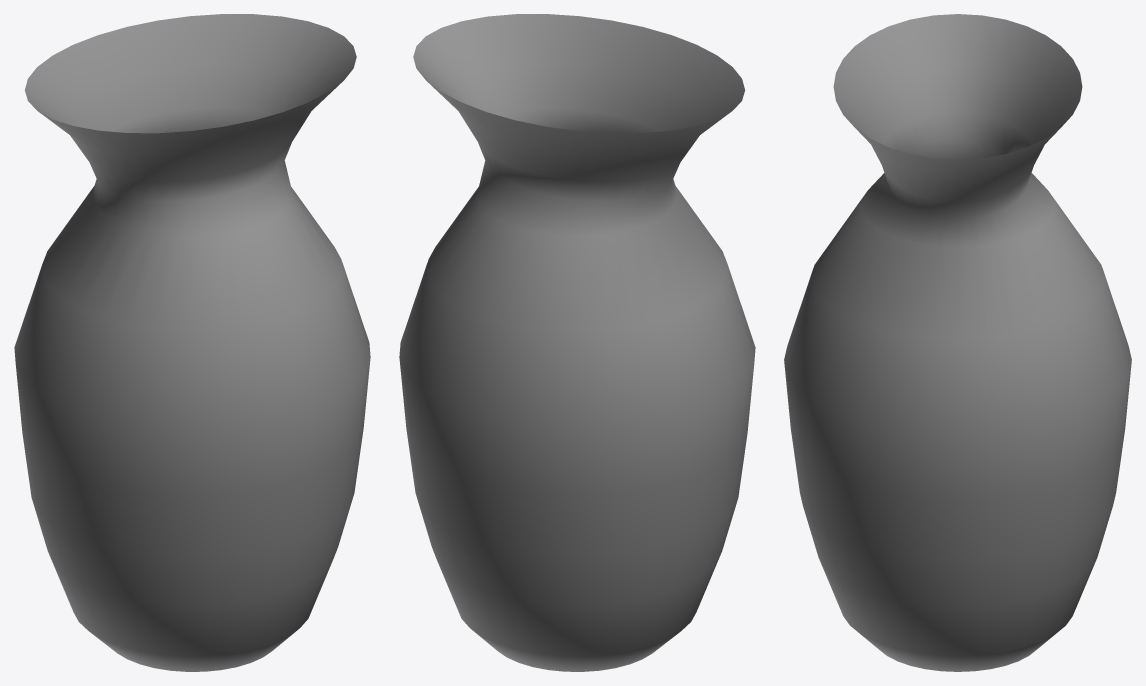
The model's file is Vase_0.fbx.
The picture shows the model from 3 angles, left to right: view 1: azimuth 30°, elevation 25°; view 2: azimuth 150°, elevation 25°; view 3: azimuth 270°, elevation 25°; orthographic projection. The views are drawn at different scales.
Visible parts, largest first — view 1: Cylinder; view 2: Cylinder; view 3: Cylinder.
Part boxes in pixels (bbox=[...]): Cylinder: bbox=[14, 14, 370, 671]; Cylinder: bbox=[399, 14, 755, 671]; Cylinder: bbox=[784, 14, 1131, 671].
Bounding box in the file's own units: 57.48 × 99.73 × 57.4.
1 material, 1 textured.
